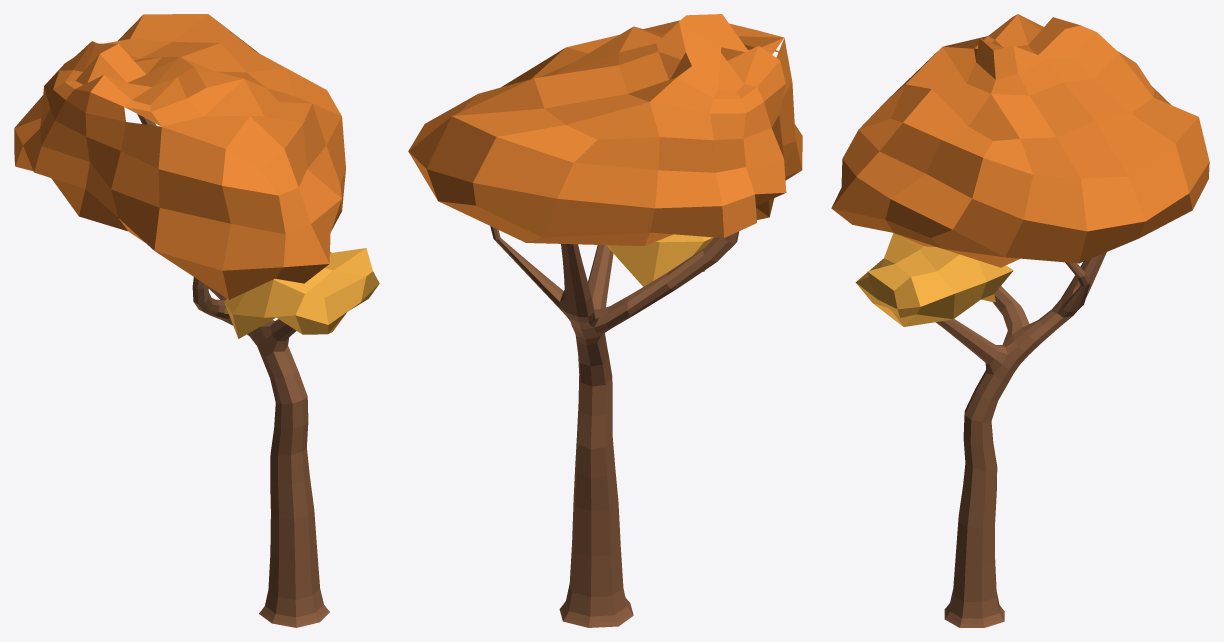
File: leafy-tree-autumn.glb
3 renders of one model, left to right at view 1: azimuth 30°, elevation 25°; view 2: azimuth 150°, elevation 25°; view 3: azimuth 270°, elevation 25°, orthographic. The views are drawn at different scales.
Parts seen in each view (by area): view 1: CommonTree_Autumn_4; view 2: CommonTree_Autumn_4; view 3: CommonTree_Autumn_4.
Boxes of the visible parts, bbox=[...] form: CommonTree_Autumn_4: bbox=[14, 14, 379, 627]; CommonTree_Autumn_4: bbox=[408, 14, 802, 627]; CommonTree_Autumn_4: bbox=[831, 14, 1209, 627].
Size of the model in its own units: 3.16 by 5.57 by 3.6.
